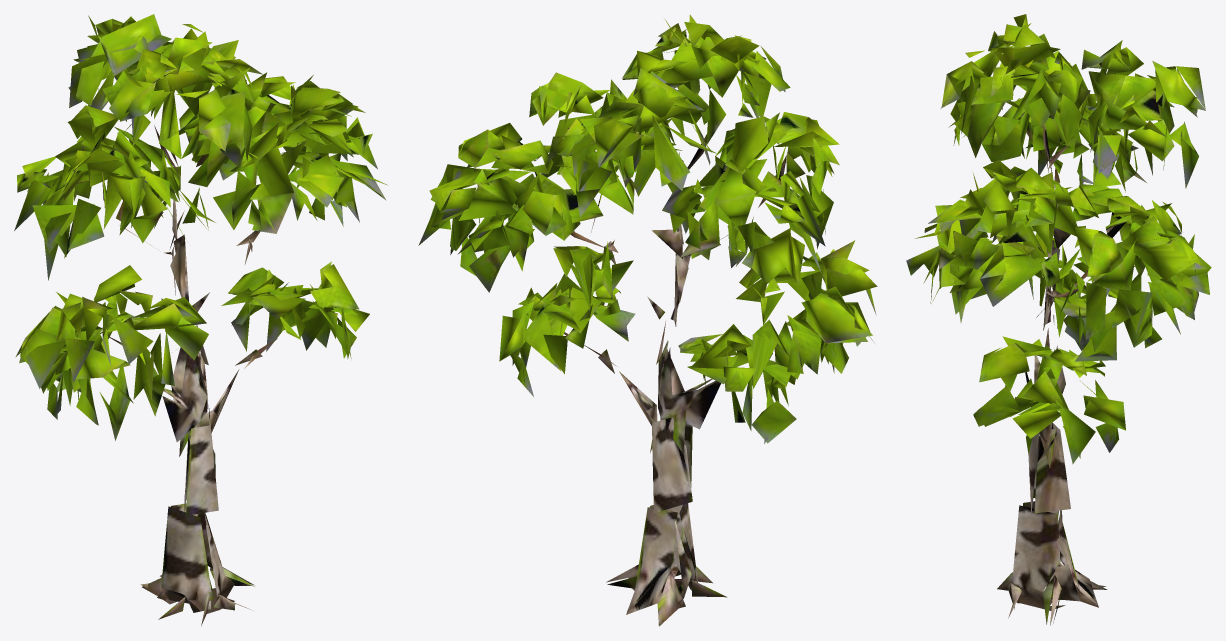
File: tree-birch-lod1.glb
3 views of the same model, side by side, from view 1: azimuth 30°, elevation 25°; view 2: azimuth 150°, elevation 25°; view 3: azimuth 270°, elevation 25° (orthographic). The views are drawn at different scales.
Visible parts, largest first — view 1: tree-birch; view 2: tree-birch; view 3: tree-birch.
Part boxes in pixels (x1=…): tree-birch: x1=14, y1=14, x2=387, y2=625; tree-birch: x1=418, y1=14, x2=877, y2=626; tree-birch: x1=906, y1=14, x2=1211, y2=625.
Bounding box in the file's own units: 5.32 × 7.45 × 3.66.
Materials: 1 (1 with a texture image).
